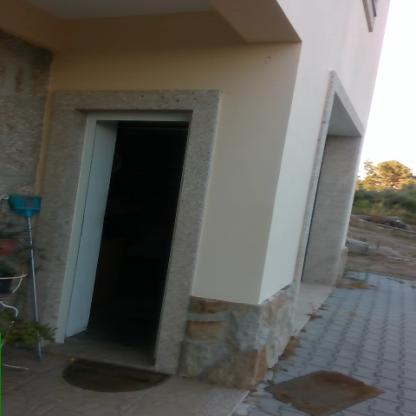open: (40, 98, 198, 371)
